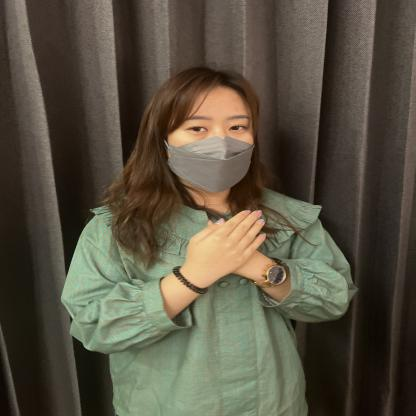Grieve: (0, 163, 363, 307)
